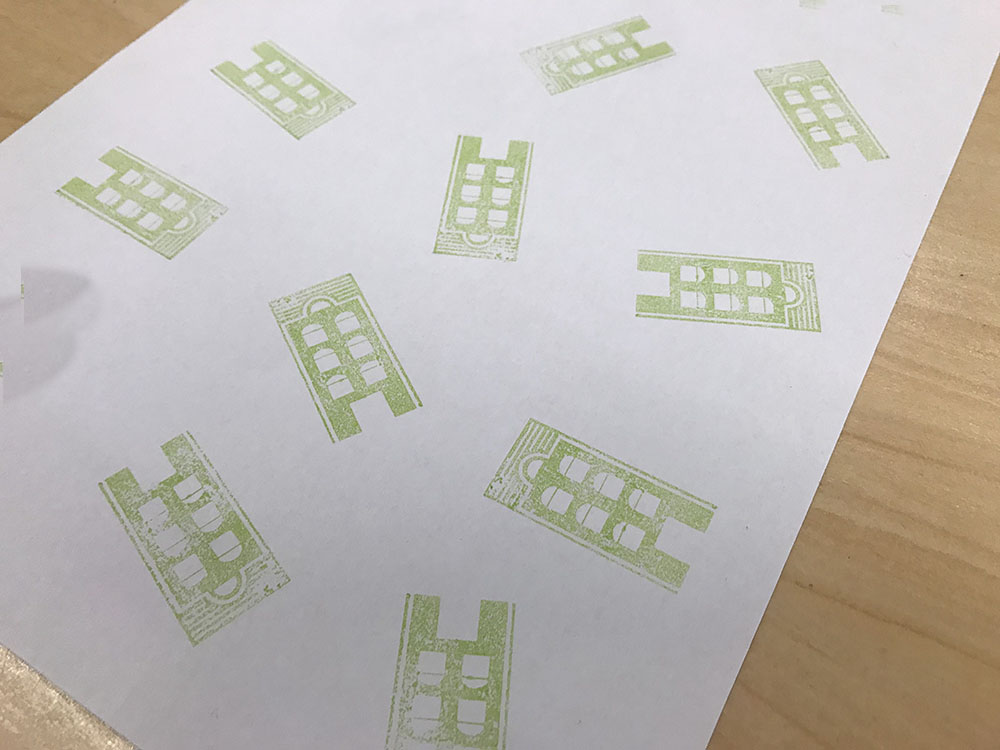build: (462, 396, 734, 601), (90, 426, 304, 653), (253, 266, 434, 446), (616, 234, 835, 351), (44, 142, 240, 271), (198, 31, 380, 154), (416, 128, 555, 281), (744, 50, 905, 180), (505, 12, 688, 98)
